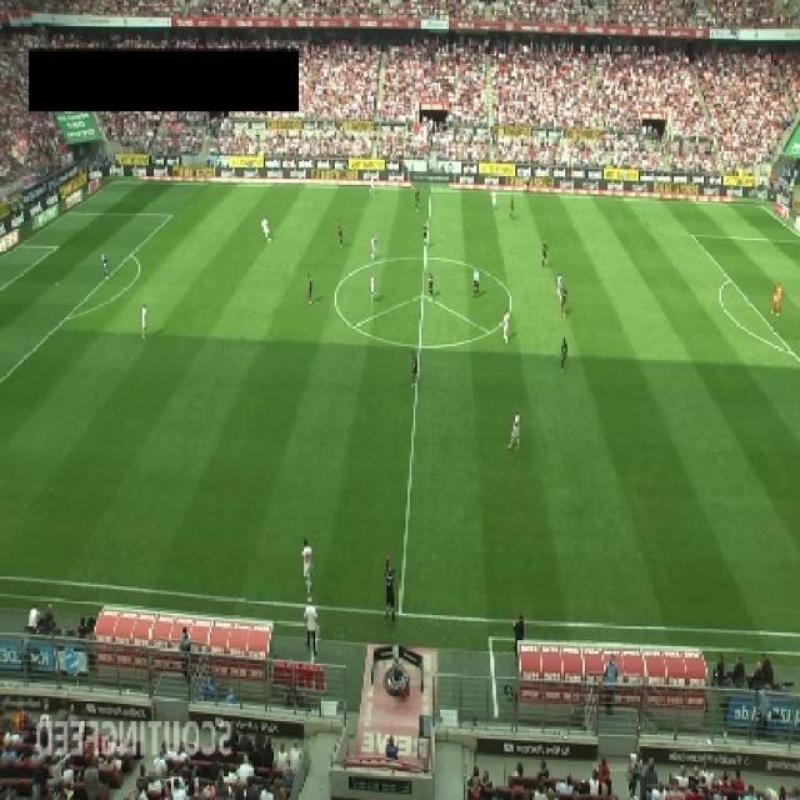1: (748, 195, 770, 213), (106, 171, 126, 187)
10: (720, 270, 740, 290), (124, 244, 140, 264)
11: (56, 306, 76, 326), (786, 341, 800, 365)
13: (419, 180, 440, 198)
14: (413, 244, 437, 270)
15: (408, 328, 432, 358)
16: (390, 603, 415, 624)
2: (59, 202, 77, 219)
3: (12, 235, 29, 252)
7: (48, 237, 66, 254)
9: (163, 206, 181, 224), (682, 226, 702, 242)
c: (324, 278, 350, 316), (497, 285, 522, 319)
